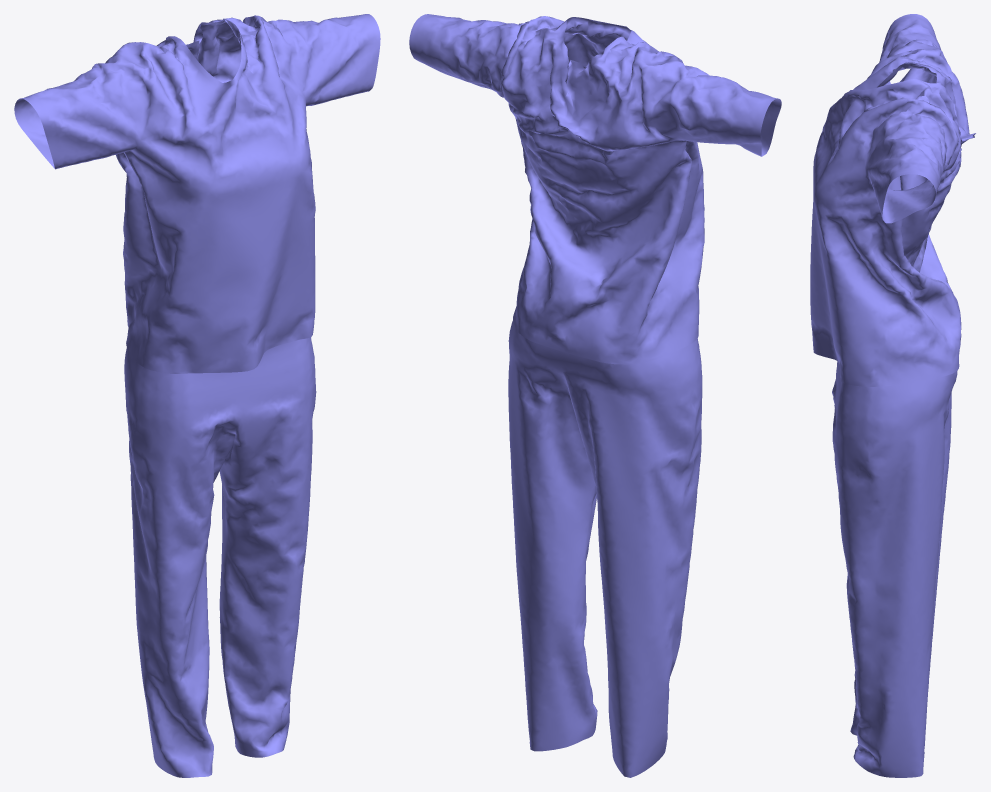
The model's file is scrubssimulated.fbx.
3 renders of one model, left to right at view 1: azimuth 30°, elevation 25°; view 2: azimuth 150°, elevation 25°; view 3: azimuth 270°, elevation 25°, orthographic. The views are drawn at different scales.
Visible parts, largest first — view 1: Scrubs; view 2: Scrubs; view 3: Scrubs.
Part boxes in pixels (x1=…): Scrubs: x1=14, y1=14, x2=380, y2=777; Scrubs: x1=409, y1=14, x2=781, y2=777; Scrubs: x1=810, y1=14, x2=975, y2=777.
Bounding box in the file's own units: 72.23 × 31.7 × 144.
